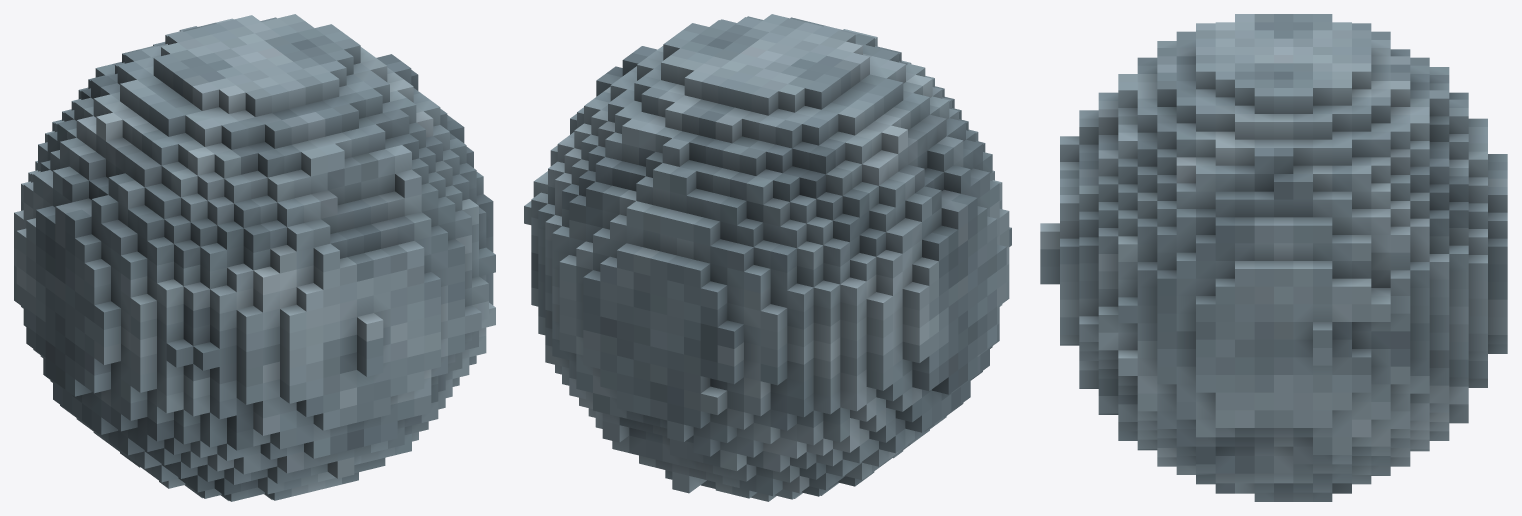
The model's file is mae_gelo_lod1.glb.
3 views of the same model, side by side, from view 1: azimuth 30°, elevation 25°; view 2: azimuth 150°, elevation 25°; view 3: azimuth 270°, elevation 25° (orthographic).
Visible parts, largest first — view 1: mae_gelo_lod1; view 2: mae_gelo_lod1; view 3: mae_gelo_lod1.
Boxes of the visible parts, left/top/right/bottom form: mae_gelo_lod1: left=14, top=14, right=495, bottom=501; mae_gelo_lod1: left=524, top=14, right=1011, bottom=501; mae_gelo_lod1: left=1040, top=14, right=1507, bottom=501.
Size of the model in its own units: 2.18 by 2.18 by 2.18.
